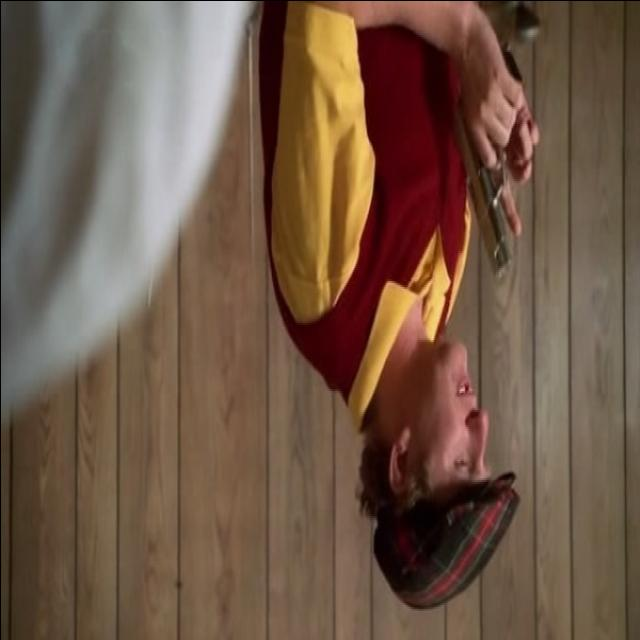weapons: (442, 55, 530, 304)
